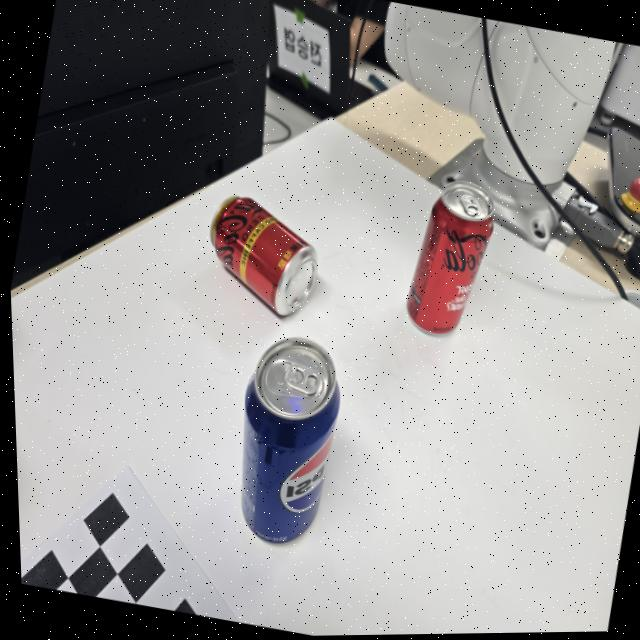can_coke_decaf: (209, 195, 320, 315)
can_coke_zero: (407, 181, 494, 339)
can_pepsi: (241, 339, 340, 544)
